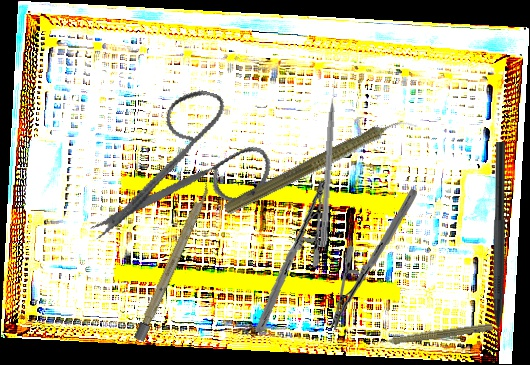Chopper: (481, 142, 506, 359)
Handpiece: (220, 105, 420, 223), (370, 318, 494, 350)
Iris Scissors: (86, 70, 286, 282)
Needle Holder: (239, 179, 343, 333), (329, 186, 418, 333)
Pusher: (319, 77, 340, 248)
Scalpel Handle: (133, 180, 214, 343)
